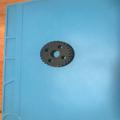gear: (37, 40, 76, 68)
